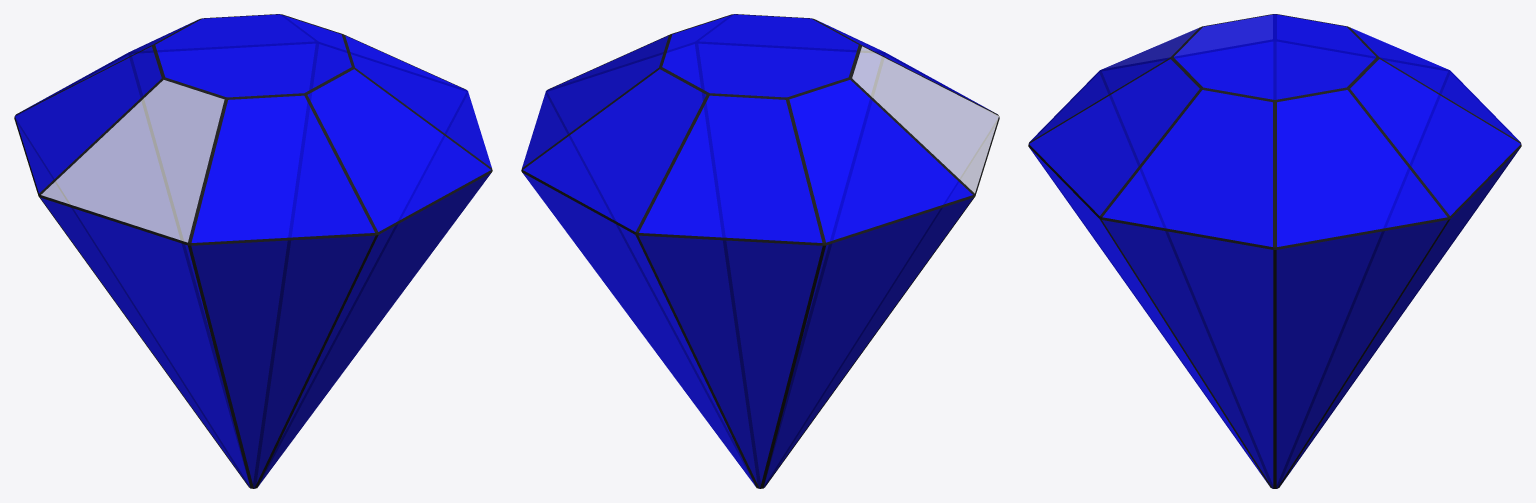
The model's file is diamond_blue.fbx.
The picture shows the model from 3 angles, left to right: view 1: azimuth 30°, elevation 25°; view 2: azimuth 150°, elevation 25°; view 3: azimuth 270°, elevation 25°; orthographic projection.
Parts seen in each view (by area): view 1: Cylinder; view 2: Cylinder; view 3: Cylinder.
Part boxes in pixels (x1,y1,x2,y2): Cylinder: (14, 14, 492, 488); Cylinder: (521, 14, 999, 488); Cylinder: (1028, 14, 1521, 488).
Size of the model in its own units: 191 by 184 by 191.
